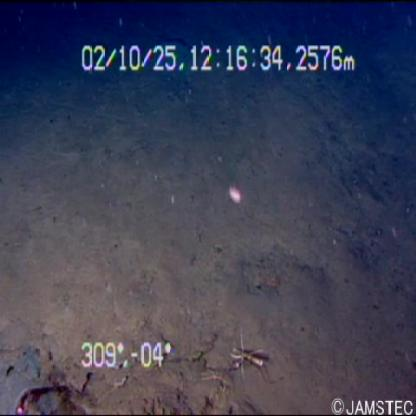Rác: (10, 379, 97, 416)
